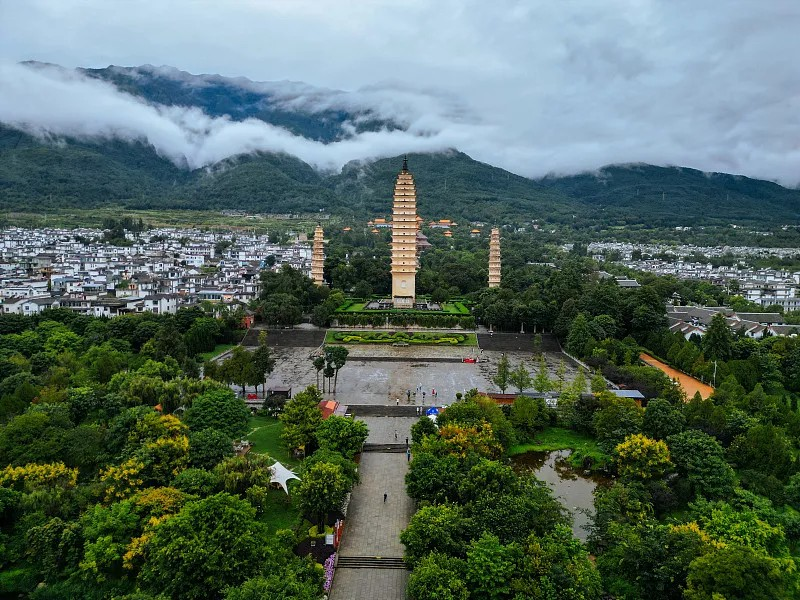ThreePagoda: (389, 155, 418, 302)
